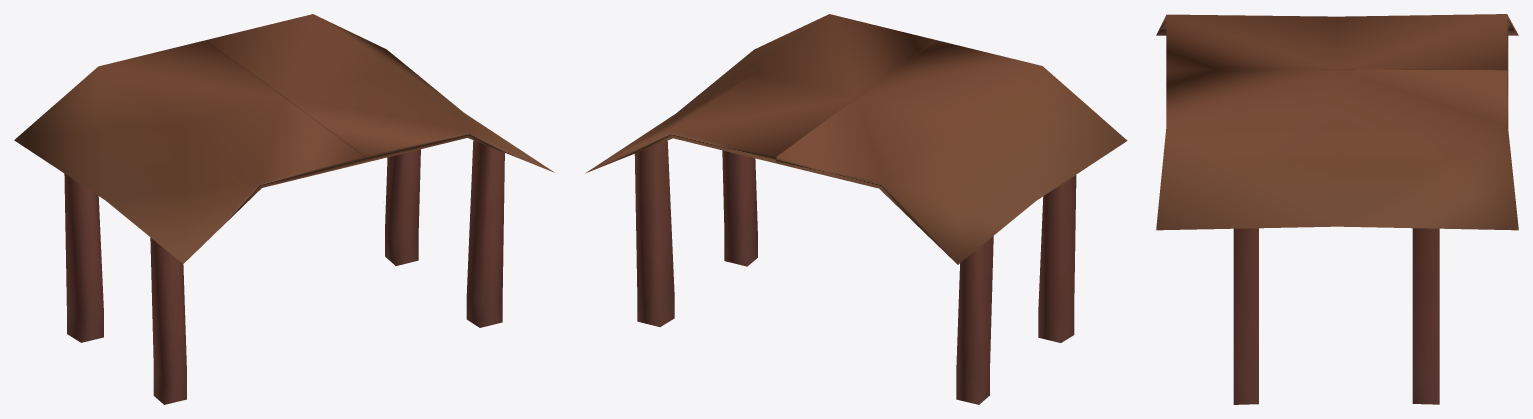
File: CanopyRoofFull.glb
3 views of the same model, side by side, from view 1: azimuth 30°, elevation 25°; view 2: azimuth 150°, elevation 25°; view 3: azimuth 270°, elevation 25° (orthographic). The views are drawn at different scales.
Parts seen in each view (by area): view 1: CanopyRoofFull; view 2: CanopyRoofFull; view 3: CanopyRoofFull.
Boxes of the visible parts, x1=… form: CanopyRoofFull: x1=14, y1=14, x2=554, y2=404; CanopyRoofFull: x1=585, y1=14, x2=1127, y2=404; CanopyRoofFull: x1=1156, y1=14, x2=1518, y2=404.
Bounding box in the file's own units: 11.83 × 6.99 × 9.31.
Materials: 1 (1 with a texture image).
